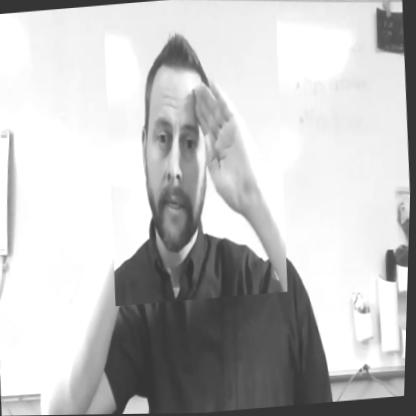Hello: (98, 16, 296, 307)
